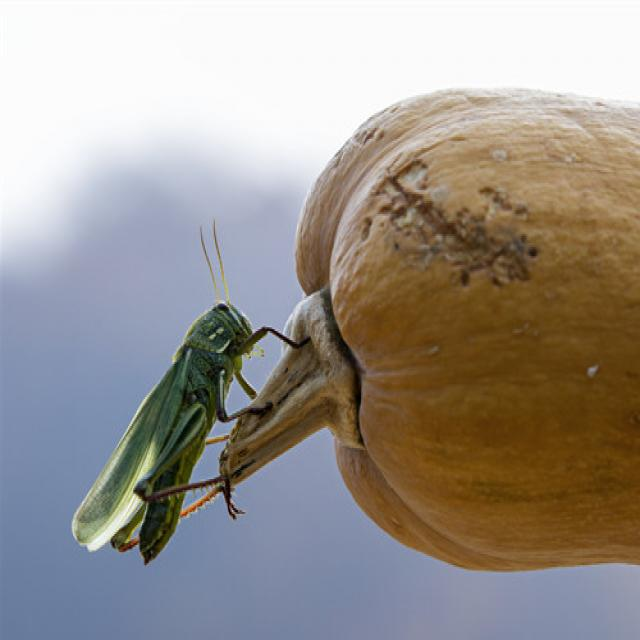ZhaMeng: (62, 263, 291, 588)
